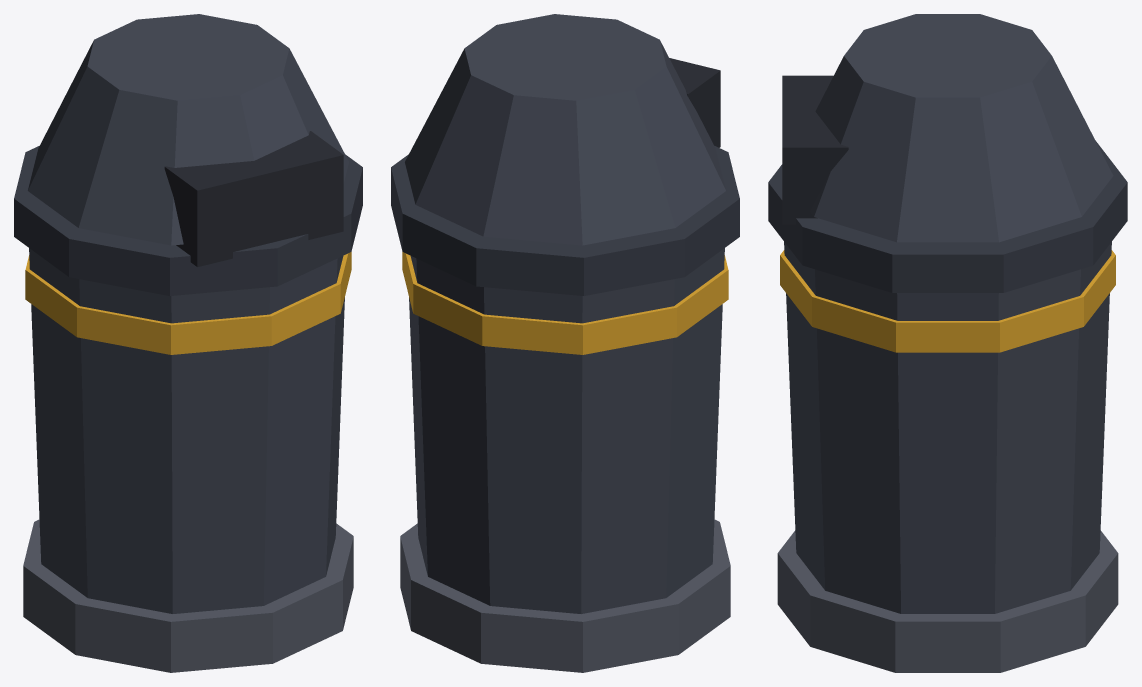
The model's file is Stylized_Prop_TrashCan.fbx.
3 views of the same model, side by side, from view 1: azimuth 30°, elevation 25°; view 2: azimuth 150°, elevation 25°; view 3: azimuth 270°, elevation 25° (orthographic).
Visible parts, largest first — view 1: Stylized_Prop_TrashCan; view 2: Stylized_Prop_TrashCan; view 3: Stylized_Prop_TrashCan.
Boxes of the visible parts, x1,y1,x2,y2 form: Stylized_Prop_TrashCan: [14, 14, 362, 672]; Stylized_Prop_TrashCan: [391, 14, 739, 672]; Stylized_Prop_TrashCan: [768, 14, 1127, 672].
Bounding box in the file's own units: 0.7228 × 1.28 × 0.76.
